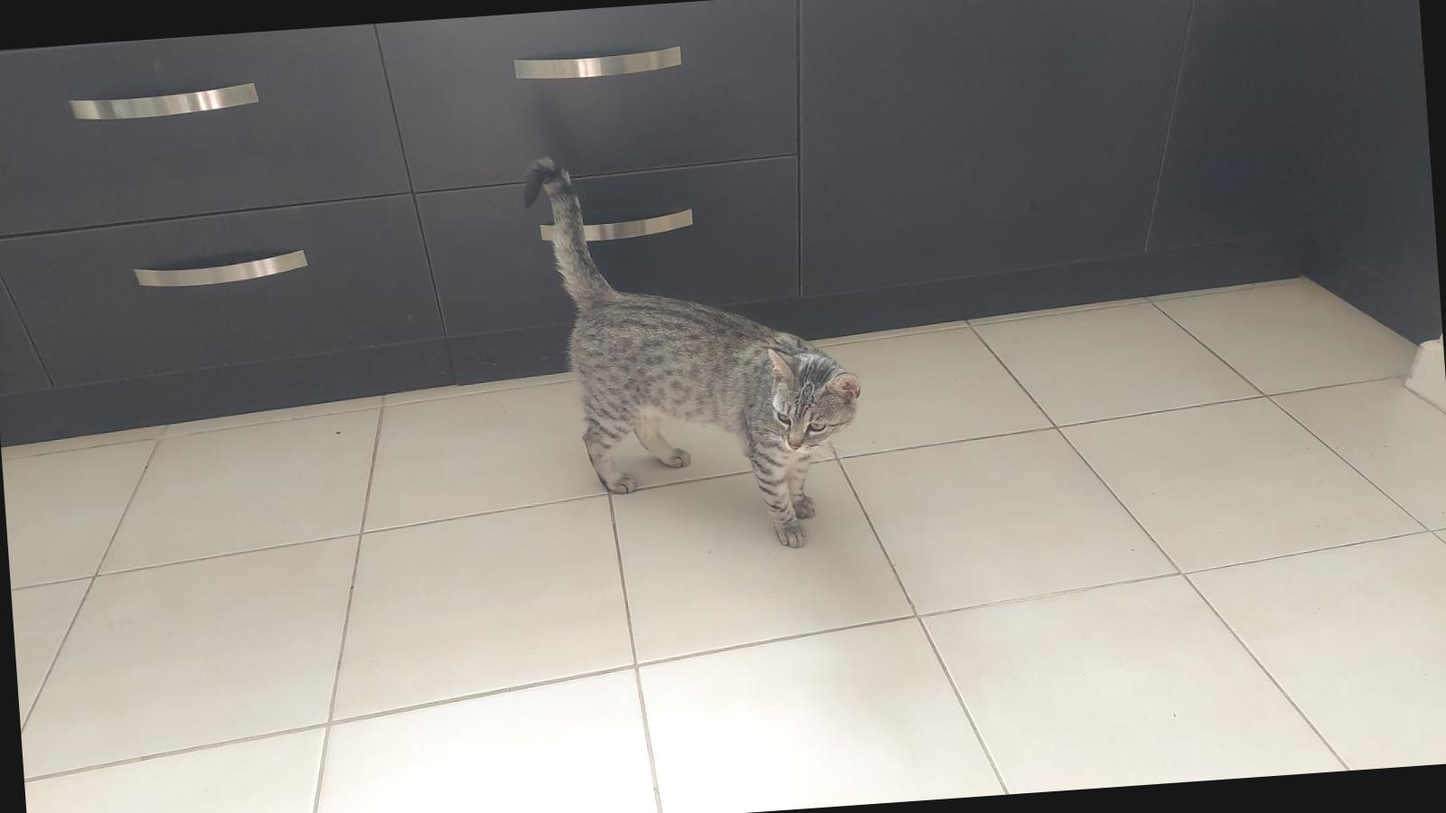macka: (519, 135, 872, 566)
